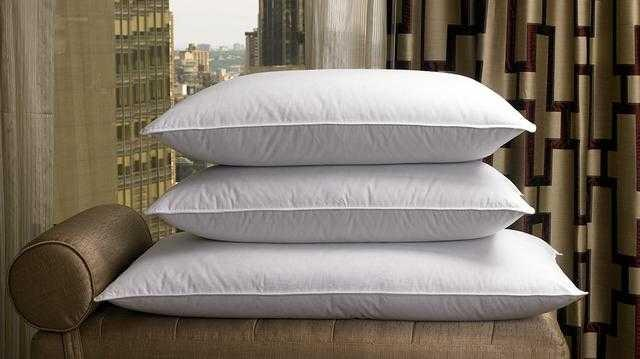pillow: (93, 227, 589, 321), (138, 66, 536, 166), (142, 160, 536, 244)
